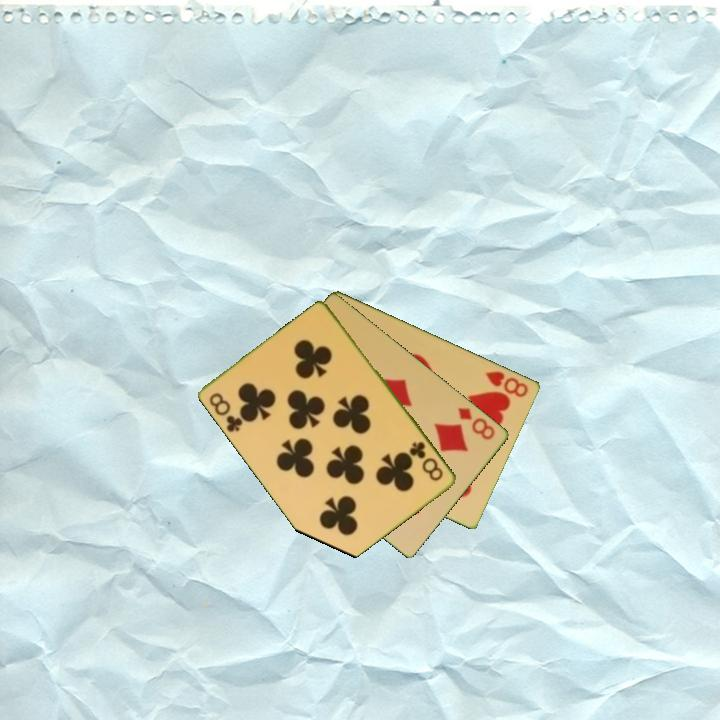8c: (406, 438, 447, 484), (206, 389, 246, 435)
8d: (455, 404, 498, 443)
8h: (482, 367, 532, 400)
